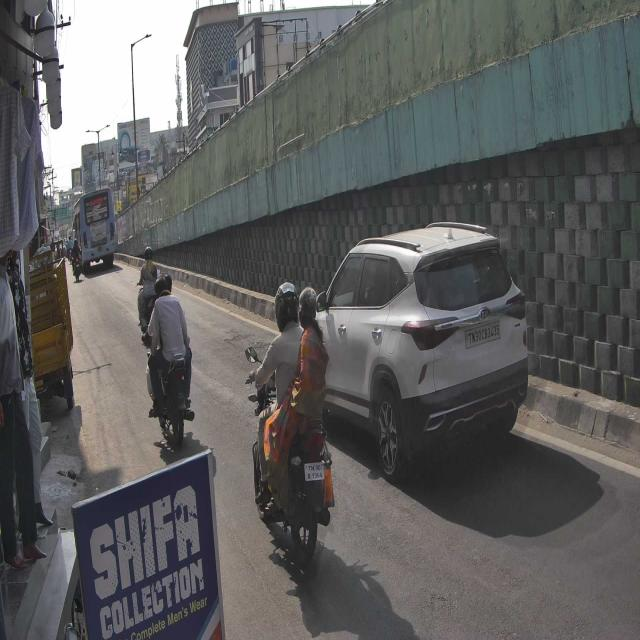double_rider: (244, 278, 336, 568)
